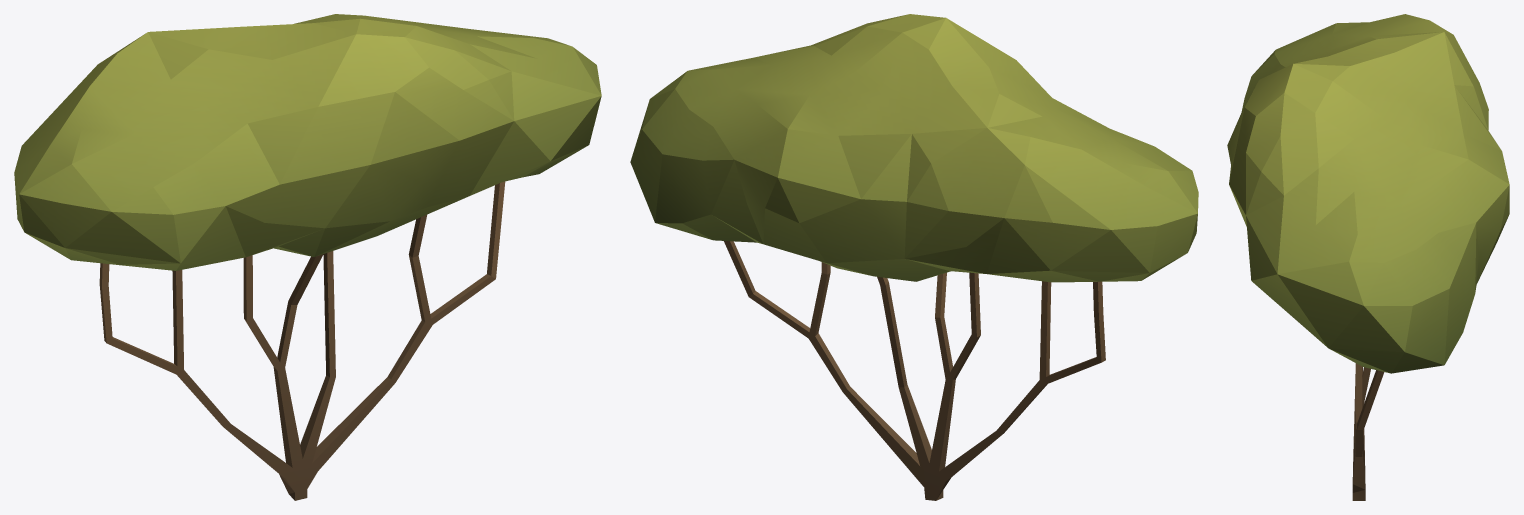
Rendered from Spring_Plant_03.glb.
3 views of the same model, side by side, from view 1: azimuth 30°, elevation 25°; view 2: azimuth 150°, elevation 25°; view 3: azimuth 270°, elevation 25° (orthographic). The views are drawn at different scales.
Visible parts, largest first — view 1: Spring_Plant_03_LOD0; view 2: Spring_Plant_03_LOD0; view 3: Spring_Plant_03_LOD0.
Boxes of the visible parts, <box> form: Spring_Plant_03_LOD0: <box>14,14,601,500</box>; Spring_Plant_03_LOD0: <box>630,14,1198,500</box>; Spring_Plant_03_LOD0: <box>1227,14,1509,500</box>.
Size of what is drawn, in the model's own units: 1.82 by 1.44 by 0.8294.
1 material, 1 textured.
